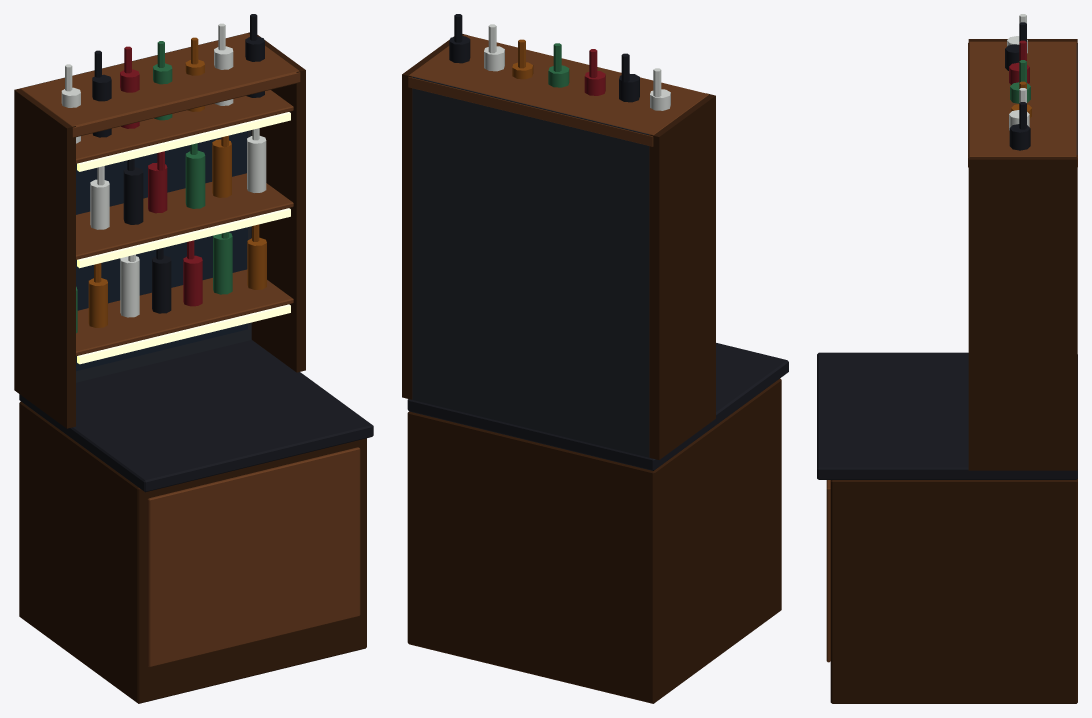
The model's file is bar_backshelf.glb.
The picture shows the model from 3 angles, left to right: view 1: azimuth 30°, elevation 25°; view 2: azimuth 150°, elevation 25°; view 3: azimuth 270°, elevation 25°; orthographic projection. The views are drawn at different scales.
Parts seen in each view (by area): view 1: bar_backshelf; view 2: bar_backshelf; view 3: bar_backshelf.
Part boxes in pixels (x1=…): bar_backshelf: x1=14, y1=14, x2=373, y2=703; bar_backshelf: x1=402, y1=14, x2=788, y2=703; bar_backshelf: x1=817, y1=14, x2=1077, y2=703.
Size of the model in its own units: 1.04 by 2.38 by 0.95.
